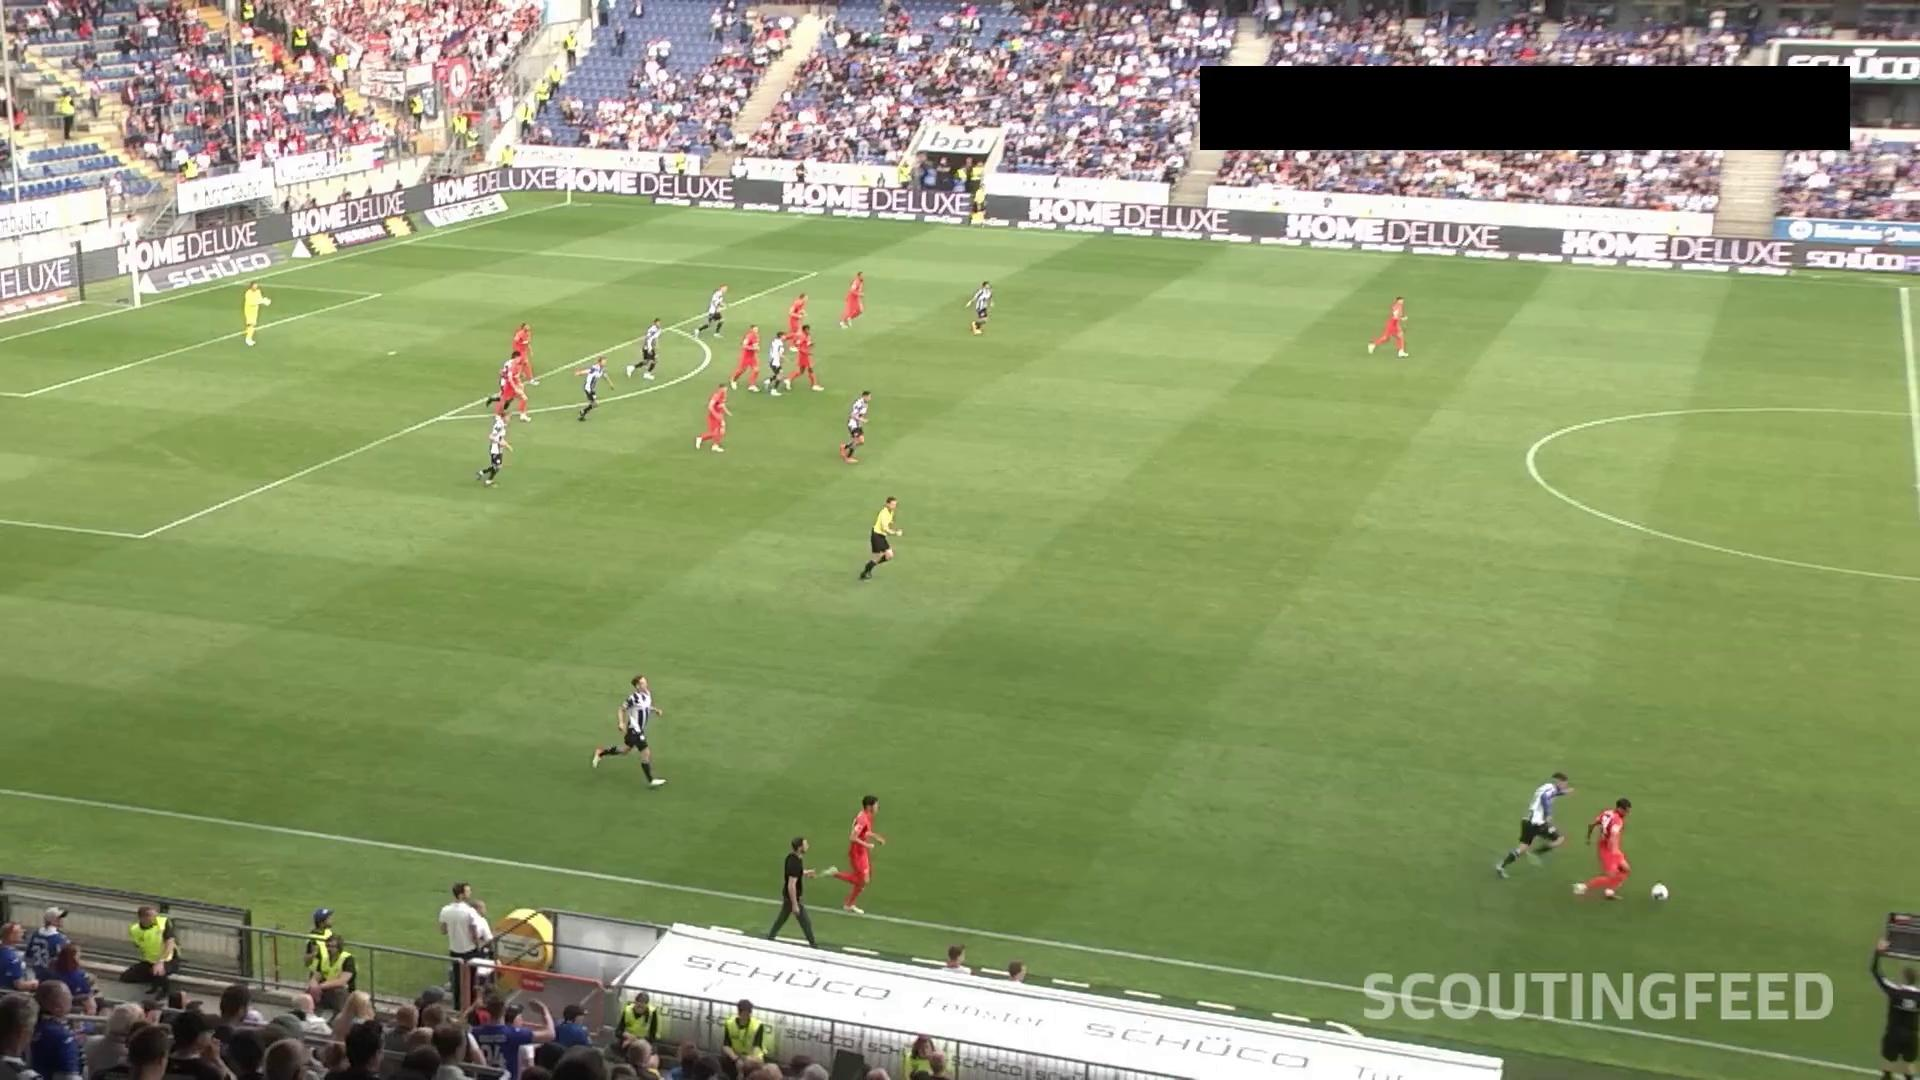Location-of-ball: (1647, 872, 1683, 911)
